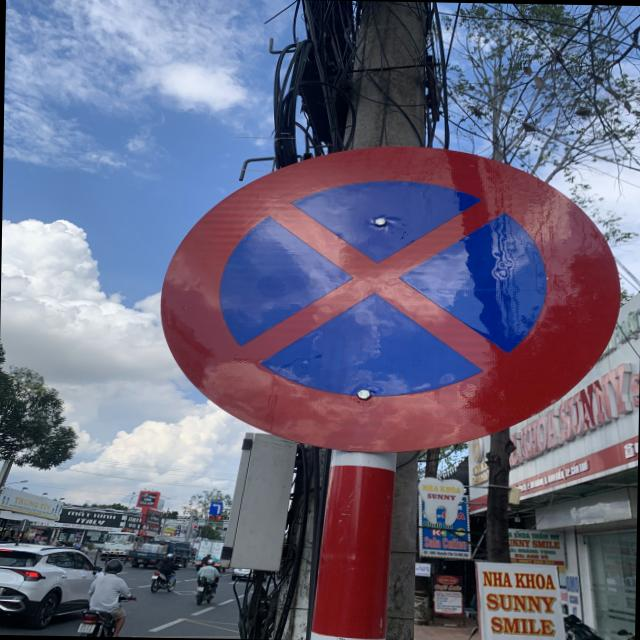Cam_Dung_Va_Dau_Xe: (156, 144, 622, 455)
